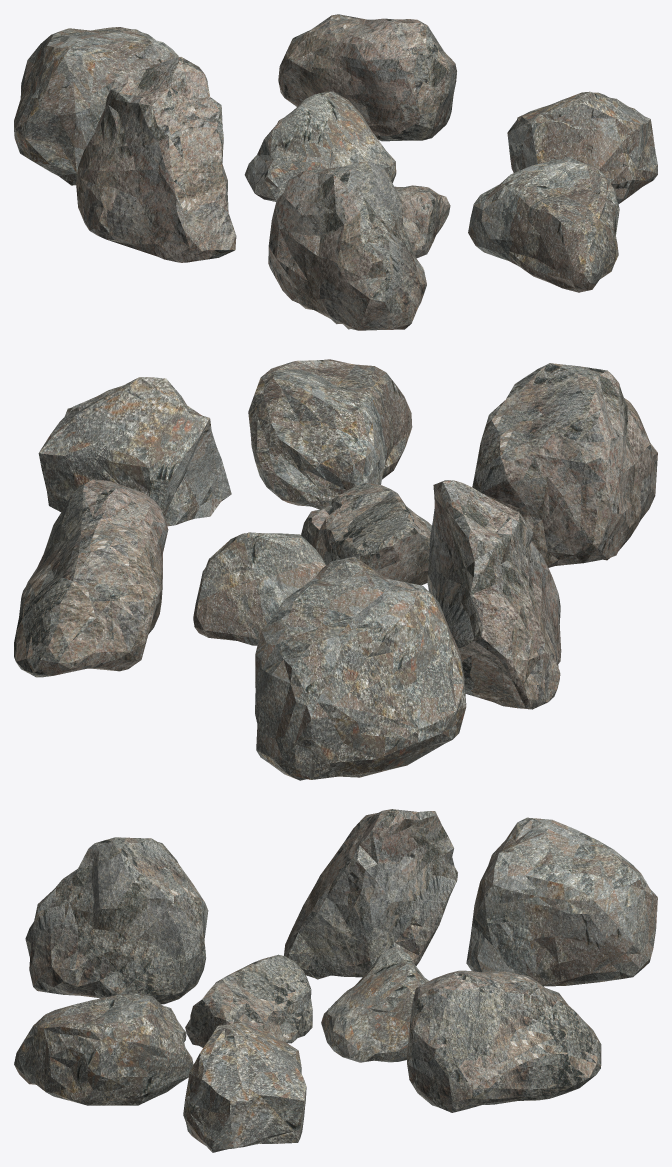
3 views of the same model, one above another, from view 1: azimuth 30°, elevation 25°; view 2: azimuth 150°, elevation 25°; view 3: azimuth 270°, elevation 25° (orthographic). The views are drawn at different scales.
Parts seen in each view (by area): view 1: skp6B0, skp6AD, skp6C1, skp6C0, skp6B2, skp6BC, skp6C9, skp6CB; view 2: skp6B2, skp6AD, skp6C1, skp6B0, skp6C0, skp6BC, skp6C9, skp6CB; view 3: skp6B2, skp6AD, skp6C1, skp6B0, skp6C0, skp6BC, skp6C9, skp6CB.
Boxes of the visible parts, left/top/right/bottom form: skp6B0: left=76, top=57, right=236, bottom=262; skp6AD: left=268, top=160, right=426, bottom=330; skp6C1: left=278, top=14, right=456, bottom=141; skp6C0: left=468, top=157, right=619, bottom=292; skp6B2: left=14, top=27, right=178, bottom=185; skp6BC: left=507, top=91, right=657, bottom=203; skp6C9: left=244, top=91, right=396, bottom=201; skp6CB: left=394, top=185, right=450, bottom=258; skp6B2: left=255, top=556, right=466, bottom=780; skp6AD: left=472, top=363, right=657, bottom=567; skp6C1: left=14, top=479, right=168, bottom=677; skp6B0: left=427, top=480, right=561, bottom=709; skp6C0: left=248, top=359, right=412, bottom=509; skp6BC: left=38, top=377, right=231, bottom=526; skp6C9: left=193, top=532, right=326, bottom=645; skp6CB: left=301, top=482, right=431, bottom=585; skp6B2: left=466, top=817, right=657, bottom=986; skp6AD: left=25, top=837, right=208, bottom=1004; skp6C1: left=407, top=970, right=601, bottom=1112; skp6B0: left=284, top=809, right=457, bottom=979; skp6C0: left=14, top=993, right=193, bottom=1105; skp6BC: left=183, top=1020, right=306, bottom=1152; skp6C9: left=321, top=946, right=428, bottom=1062; skp6CB: left=185, top=954, right=312, bottom=1047.
Bounding box in the file's own units: 136 × 155 × 44.31.
2 materials, 2 textured.
